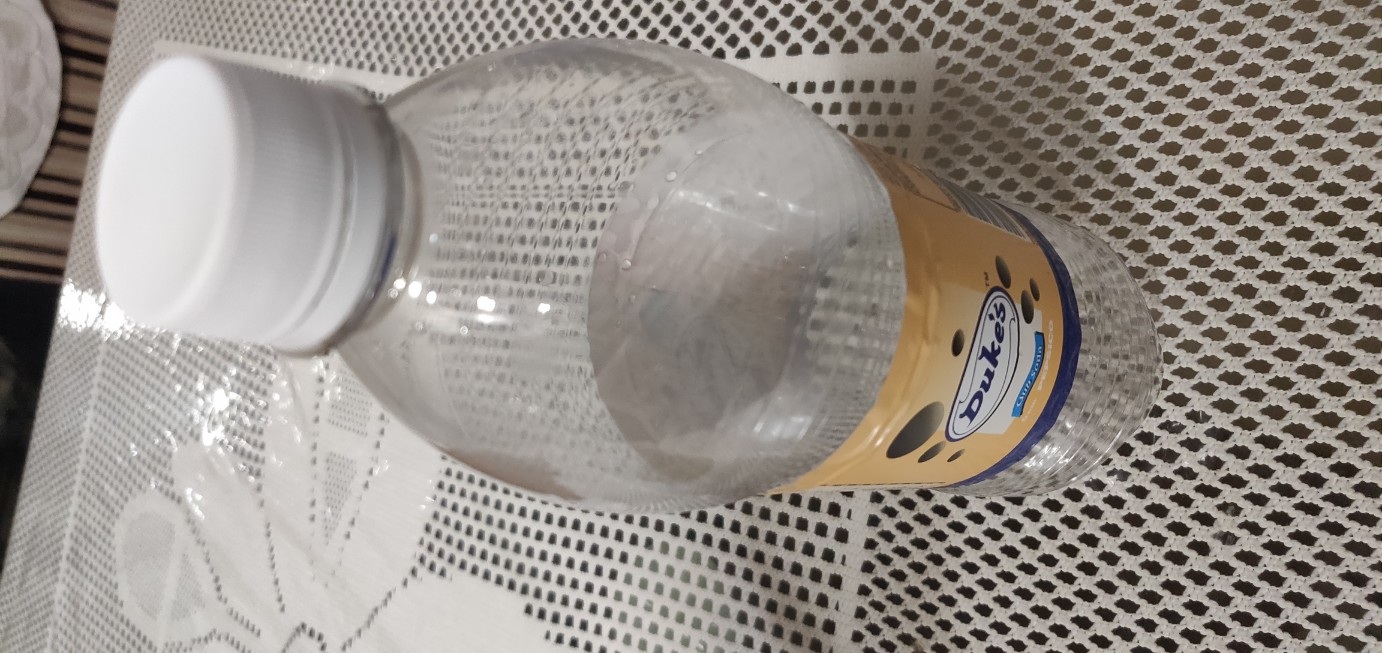Electronics: (73, 20, 1184, 544)
